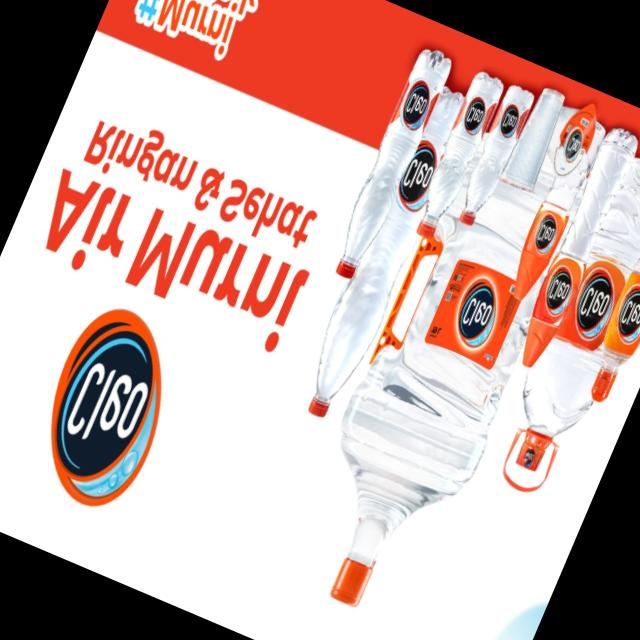BotolPlastik: (267, 35, 488, 439), (495, 105, 640, 381), (448, 61, 544, 238), (411, 70, 504, 245)
Galon: (259, 253, 539, 640)
GelasPlastik: (494, 78, 601, 216)
